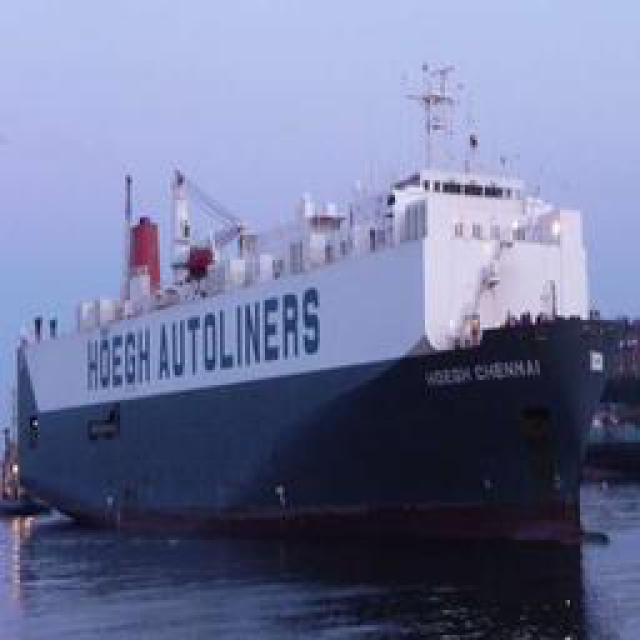Ship: (13, 57, 621, 547)
